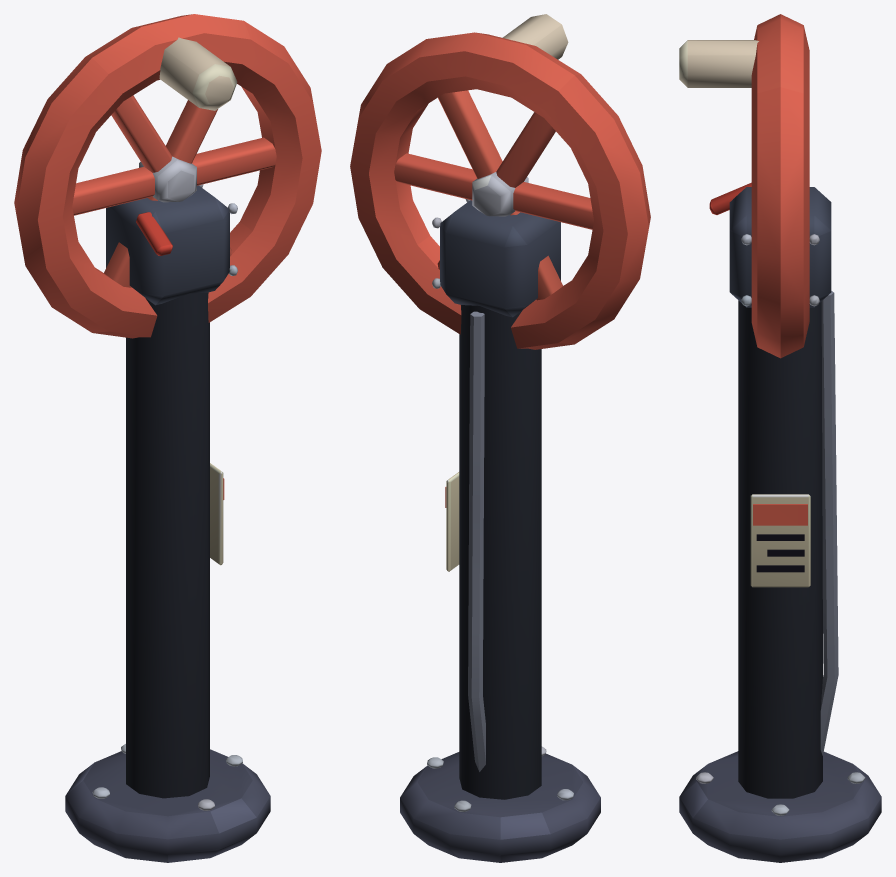
Rendered from SM_Station_FinGlider_Crank.fbx.
3 renders of one model, left to right at view 1: azimuth 30°, elevation 25°; view 2: azimuth 150°, elevation 25°; view 3: azimuth 270°, elevation 25°, orthographic. The views are drawn at different scales.
Visible parts, largest first — view 1: SM_Station_FinGlider_Crank; view 2: SM_Station_FinGlider_Crank; view 3: SM_Station_FinGlider_Crank.
Boxes of the visible parts, bbox=[...] form: SM_Station_FinGlider_Crank: bbox=[14, 14, 321, 862]; SM_Station_FinGlider_Crank: bbox=[350, 14, 650, 862]; SM_Station_FinGlider_Crank: bbox=[679, 14, 881, 862].
Bounding box in the file's own units: 41.05 × 104 × 24.05.
